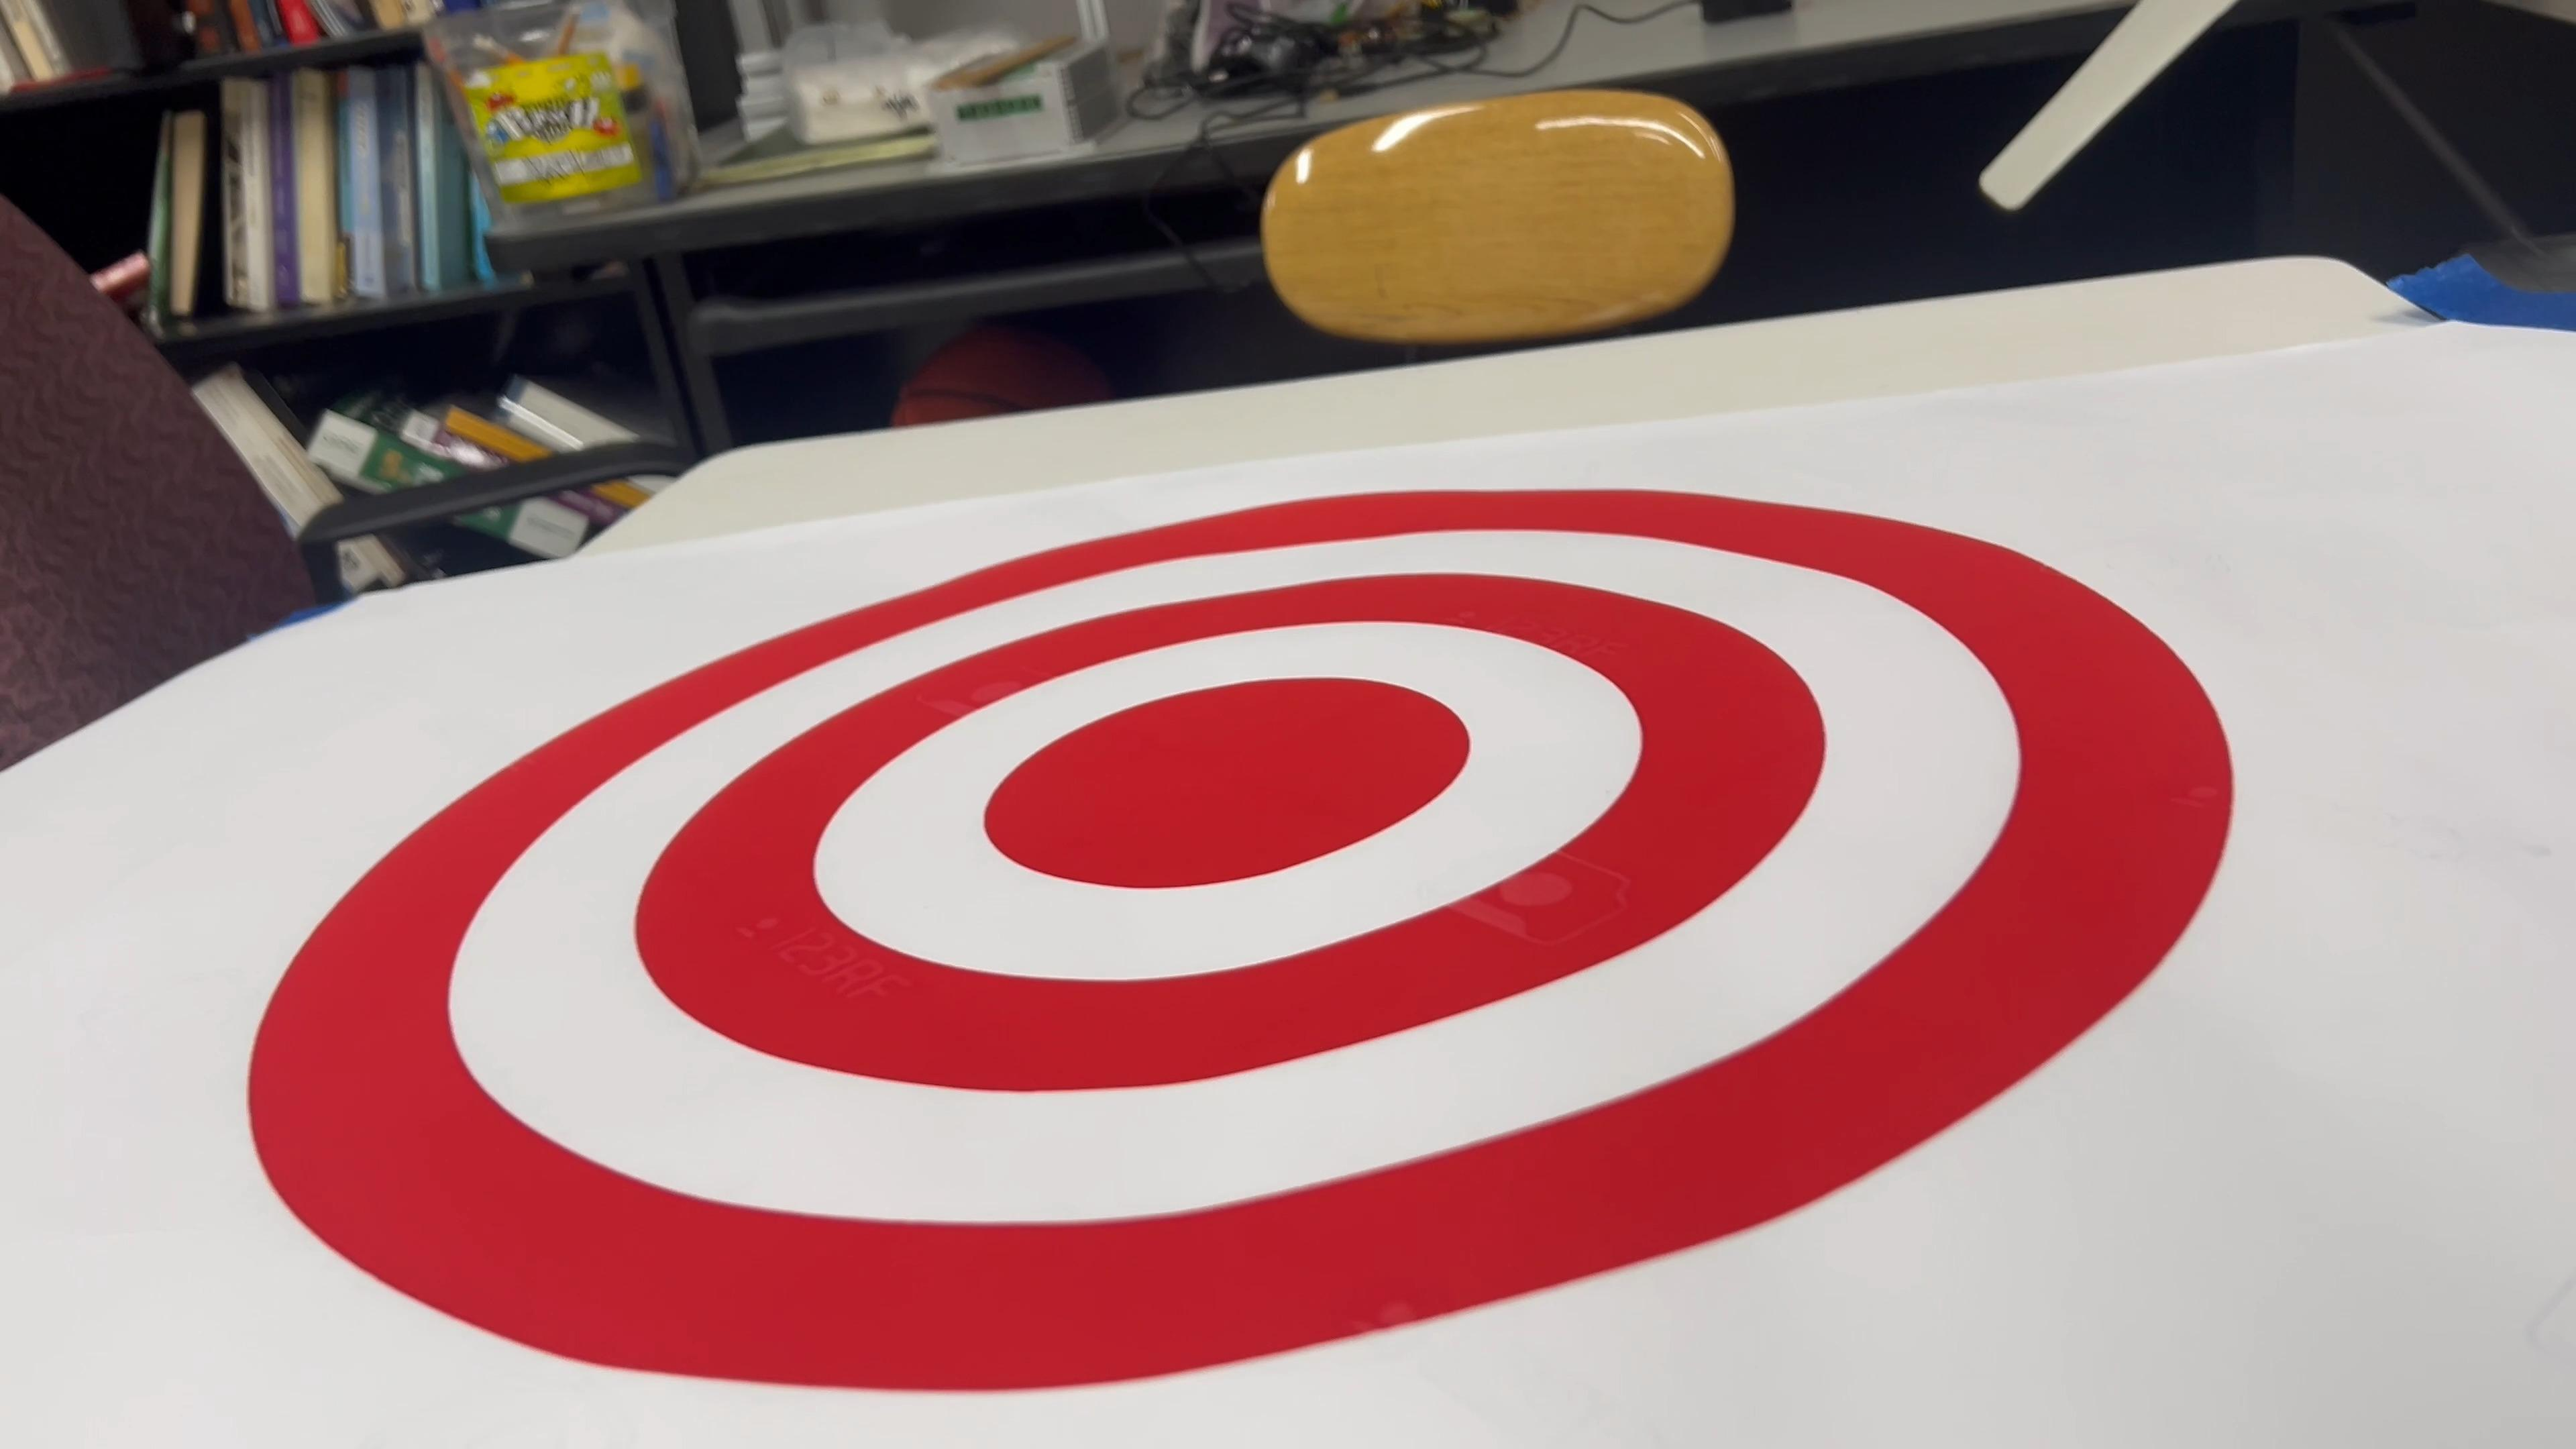target_red: (202, 451, 2328, 1408)
